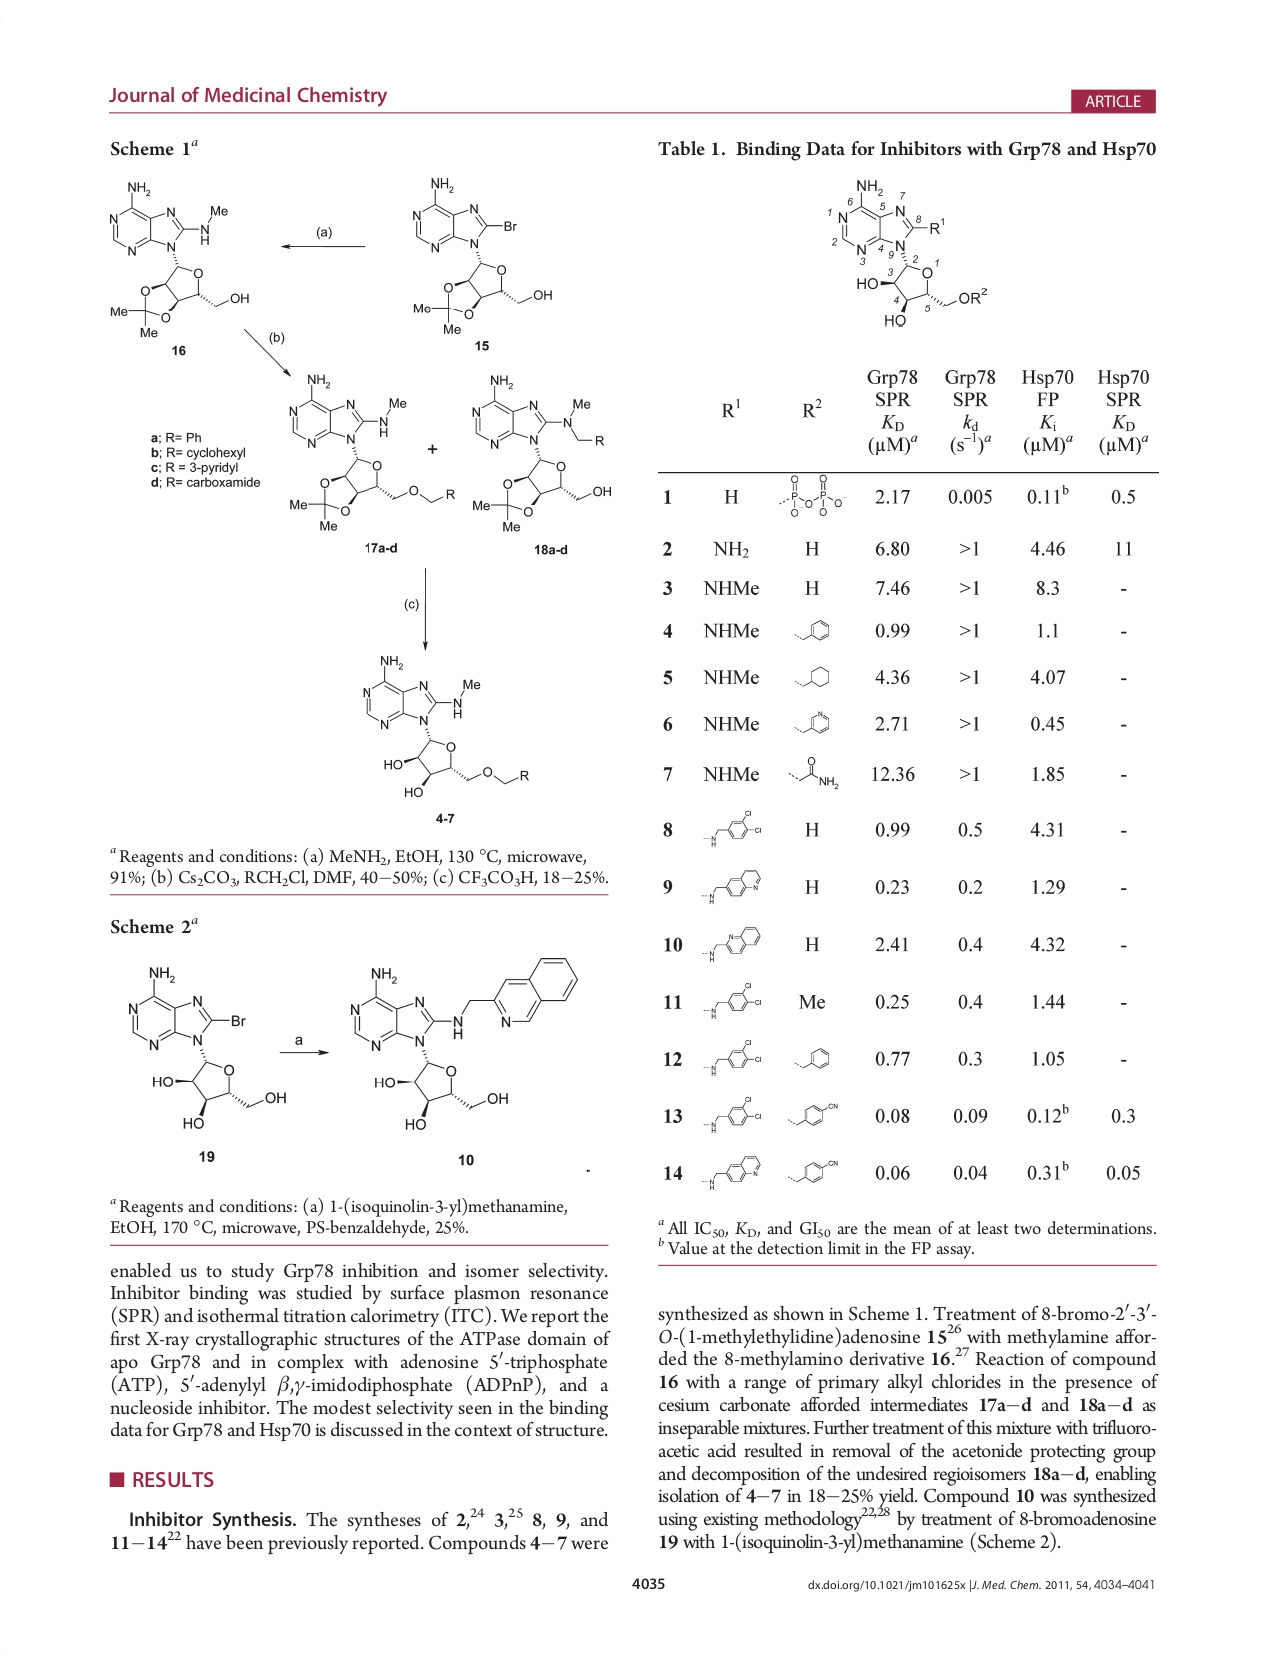exist_molecular: (347, 954, 578, 1134), (285, 371, 457, 532), (124, 962, 287, 1130), (359, 652, 533, 797), (400, 174, 555, 336), (465, 368, 614, 535), (836, 177, 989, 330), (775, 473, 847, 519), (696, 1035, 761, 1079), (698, 923, 765, 965), (701, 1094, 765, 1136), (696, 867, 762, 906), (701, 977, 765, 1017), (702, 809, 765, 848), (699, 1154, 761, 1192), (785, 754, 842, 793), (785, 1152, 842, 1186), (785, 1098, 840, 1130), (789, 612, 831, 644), (790, 707, 834, 737), (789, 1047, 832, 1075), (791, 662, 832, 692)
